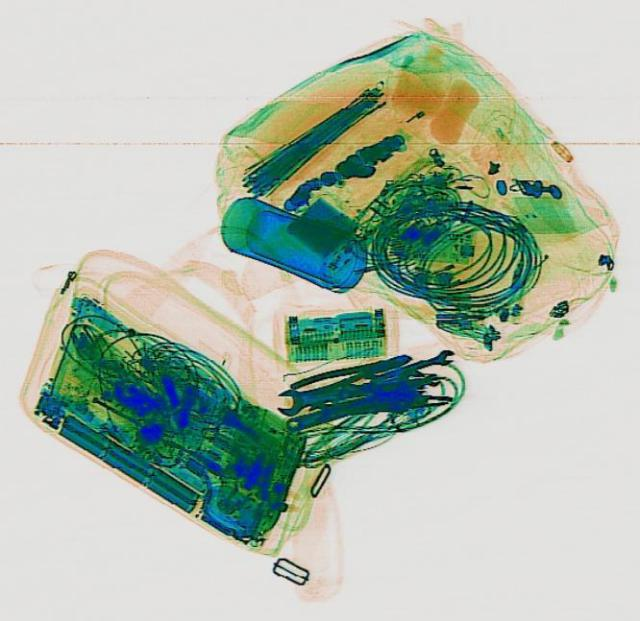Pliers: (287, 344, 415, 398)
Wrench: (270, 374, 366, 416), (374, 345, 456, 384)
